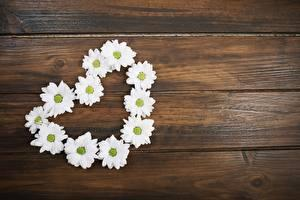chamomile: (69, 137, 102, 167), (104, 46, 131, 72), (131, 93, 157, 120), (46, 83, 69, 113), (73, 79, 100, 102), (30, 109, 58, 131), (102, 142, 124, 167), (130, 122, 157, 142), (133, 67, 156, 88), (90, 48, 104, 76), (44, 133, 63, 151)
